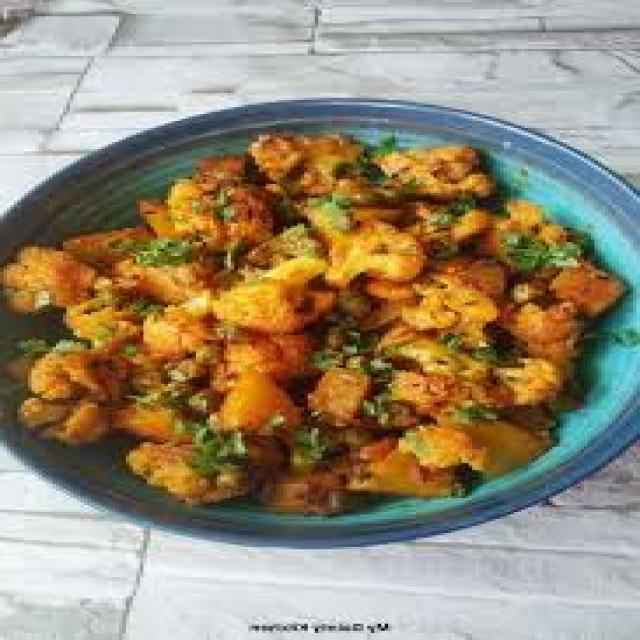Aloo Gobi: (200, 129, 586, 503)
